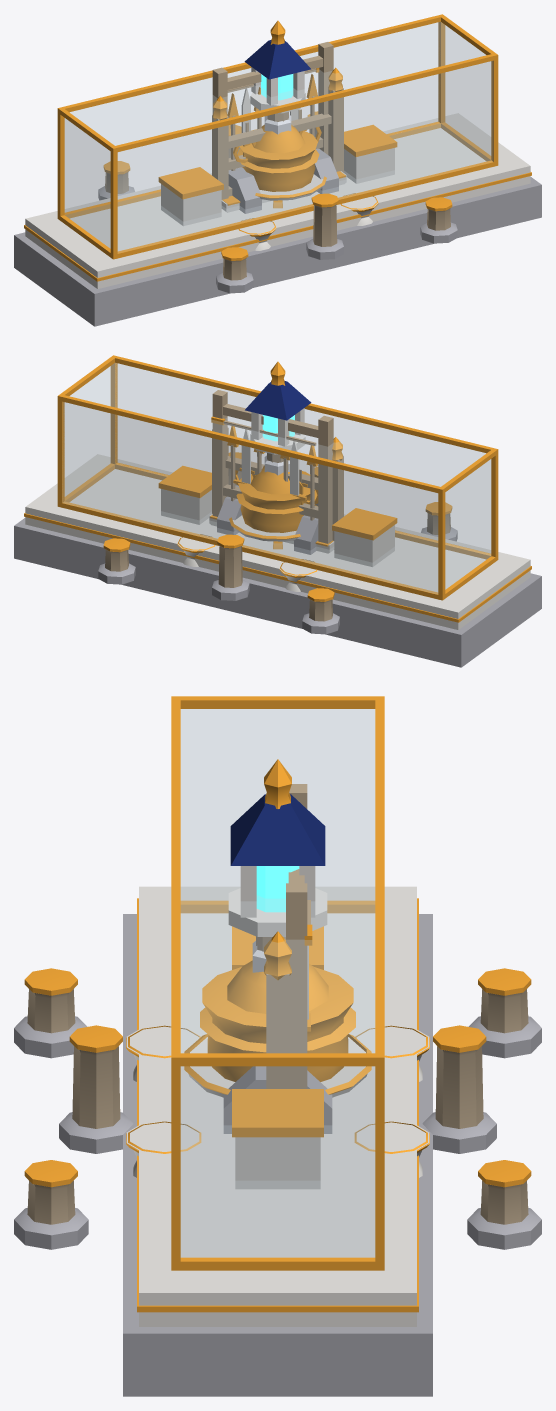
Rendered from Dawnspire_Props.fbx.
3 renders of one model, top to bottom at view 1: azimuth 30°, elevation 25°; view 2: azimuth 150°, elevation 25°; view 3: azimuth 270°, elevation 25°, orthographic. The views are drawn at different scales.
Visible parts, largest first — view 1: Dawnspire_Props_RegentPlinth__Case, Dawnspire_Props_RegentPlinth__Marble, Dawnspire_Props_RegentPlinth__Gold, Dawnspire_Props_RegentPlinth__Granite, Dawnspire_Props_Burner__Gold, Dawnspire_Props_Rack__Timber, Dawnspire_Props_ExhBay__Timber, Dawnspire_Props_PlumPosts__Timber, Dawnspire_Props_PlumPosts__Granite, Dawnspire_Props_Weights__Granite, Dawnspire_Props_TeaTable__Marble, Dawnspire_Props_LanternPillar__Tile (+5 smaller); view 2: Dawnspire_Props_RegentPlinth__Case, Dawnspire_Props_RegentPlinth__Marble, Dawnspire_Props_RegentPlinth__Gold, Dawnspire_Props_RegentPlinth__Granite, Dawnspire_Props_ExhBay__Timber, Dawnspire_Props_Burner__Gold, Dawnspire_Props_PlumPosts__Timber, Dawnspire_Props_Rack__Timber, Dawnspire_Props_PlumPosts__Granite, Dawnspire_Props_LanternPillar__Tile, Dawnspire_Props_ExhBay__Marble, Dawnspire_Props_Weights__Granite (+6 smaller); view 3: Dawnspire_Props_RegentPlinth__Case, Dawnspire_Props_RegentPlinth__Marble, Dawnspire_Props_RegentPlinth__Granite, Dawnspire_Props_RegentPlinth__Gold, Dawnspire_Props_PlumPosts__Timber, Dawnspire_Props_PlumPosts__Granite, Dawnspire_Props_Burner__Gold, Dawnspire_Props_PlumPosts__Gold, Dawnspire_Props_LanternPillar__Tile, Dawnspire_Props_ExhBay__Timber, Dawnspire_Props_TeaTable__Marble, Dawnspire_Props_LanternPillar__Marble (+6 smaller).
Part boxes in pixels (left/top/right/bottom): Dawnspire_Props_RegentPlinth__Case: left=65, top=22, right=493, bottom=252; Dawnspire_Props_RegentPlinth__Marble: left=25, top=113, right=530, bottom=288; Dawnspire_Props_RegentPlinth__Gold: left=24, top=14, right=531, bottom=281; Dawnspire_Props_RegentPlinth__Granite: left=14, top=177, right=541, bottom=326; Dawnspire_Props_Burner__Gold: left=233, top=124, right=321, bottom=208; Dawnspire_Props_Rack__Timber: left=212, top=87, right=343, bottom=199; Dawnspire_Props_ExhBay__Timber: left=212, top=42, right=333, bottom=170; Dawnspire_Props_PlumPosts__Timber: left=105, top=128, right=450, bottom=280; Dawnspire_Props_PlumPosts__Granite: left=98, top=186, right=457, bottom=293; Dawnspire_Props_Weights__Granite: left=228, top=148, right=338, bottom=213; Dawnspire_Props_TeaTable__Marble: left=238, top=174, right=378, bottom=250; Dawnspire_Props_LanternPillar__Tile: left=244, top=40, right=310, bottom=79; Dawnspire_Props_RegentPlinth__Case: left=62, top=363, right=490, bottom=594; Dawnspire_Props_RegentPlinth__Marble: left=25, top=454, right=530, bottom=629; Dawnspire_Props_RegentPlinth__Gold: left=24, top=355, right=531, bottom=622; Dawnspire_Props_RegentPlinth__Granite: left=14, top=518, right=541, bottom=667; Dawnspire_Props_ExhBay__Timber: left=212, top=390, right=333, bottom=543; Dawnspire_Props_Burner__Gold: left=235, top=465, right=318, bottom=549; Dawnspire_Props_PlumPosts__Timber: left=105, top=468, right=450, bottom=621; Dawnspire_Props_Rack__Timber: left=212, top=427, right=343, bottom=540; Dawnspire_Props_PlumPosts__Granite: left=98, top=485, right=457, bottom=634; Dawnspire_Props_LanternPillar__Tile: left=245, top=381, right=311, bottom=420; Dawnspire_Props_ExhBay__Marble: left=200, top=429, right=326, bottom=556; Dawnspire_Props_Weights__Granite: left=217, top=496, right=318, bottom=554; Dawnspire_Props_RegentPlinth__Case: left=181, top=709, right=374, bottom=1257; Dawnspire_Props_RegentPlinth__Marble: left=139, top=886, right=416, bottom=1326; Dawnspire_Props_RegentPlinth__Granite: left=123, top=914, right=432, bottom=1396; Dawnspire_Props_RegentPlinth__Gold: left=137, top=696, right=418, bottom=1312; Dawnspire_Props_PlumPosts__Timber: left=27, top=989, right=528, bottom=1224; Dawnspire_Props_PlumPosts__Granite: left=14, top=1016, right=541, bottom=1249; Dawnspire_Props_Burner__Gold: left=200, top=960, right=355, bottom=1081; Dawnspire_Props_PlumPosts__Gold: left=24, top=968, right=531, bottom=1187; Dawnspire_Props_LanternPillar__Tile: left=230, top=794, right=325, bottom=865; Dawnspire_Props_ExhBay__Timber: left=286, top=784, right=310, bottom=1088; Dawnspire_Props_TeaTable__Marble: left=126, top=1025, right=429, bottom=1177; Dawnspire_Props_LanternPillar__Marble: left=228, top=866, right=327, bottom=936.
Bounding box in the file's own units: 18.6 × 8.84 × 9.89.
